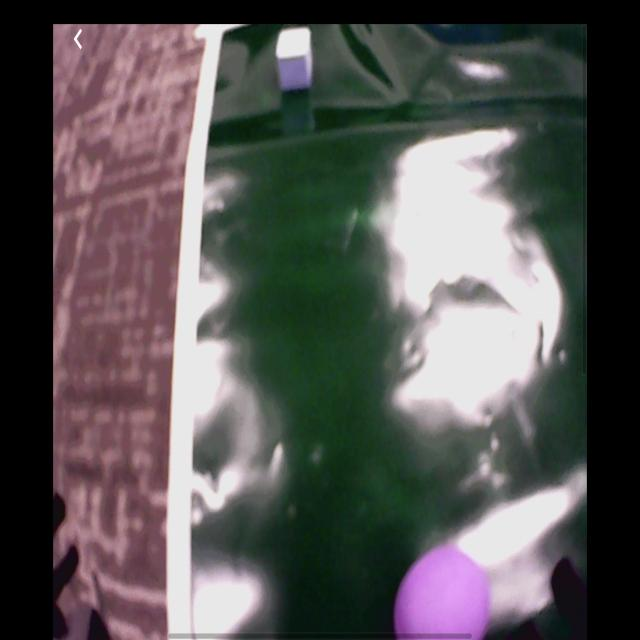ball: (396, 546, 491, 640)
